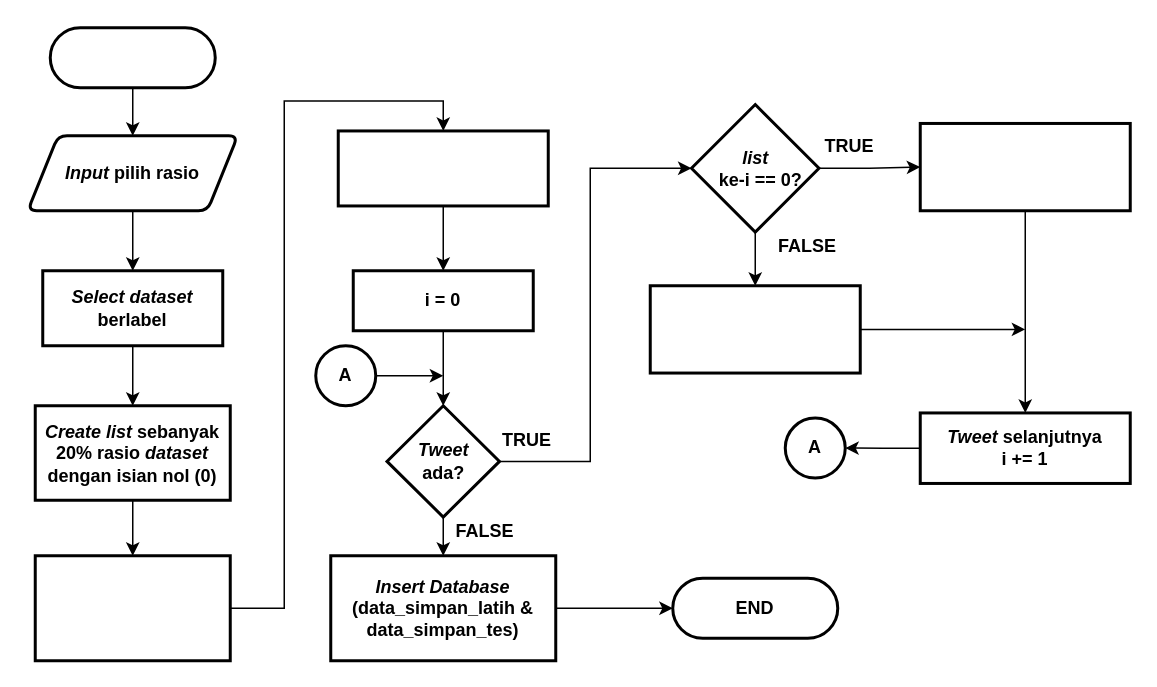
Some shapes in this 1157 by 687 pixel diagram are drawn without their labels. Here are the shapes that lost their labels. From the top down, the centre of each, then its label:
At pixel 132 57: "START".
At pixel 442 168: "data_simpan_latih = [] data_simpan_tes = []".
At pixel 1024 166: "Tampung Tweet ke dalam data_simpan_tes".
At pixel 754 329: "Tampung Tweet ke dalam data_simpan_latih".
At pixel 132 608: "Insert list sebanyak 80% rasio dataset dengan isian satu (1)".
